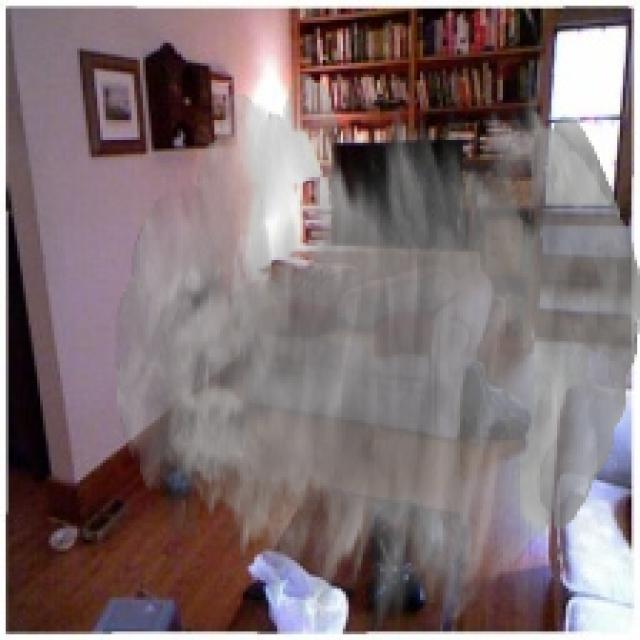smoke: (114, 71, 637, 634)
